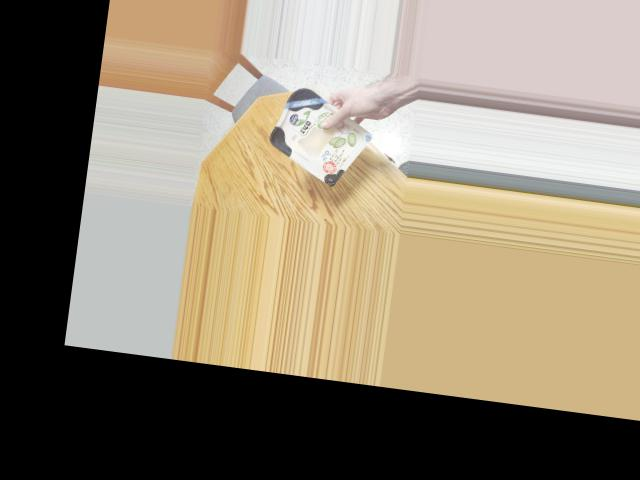cheese: (267, 86, 365, 183)
